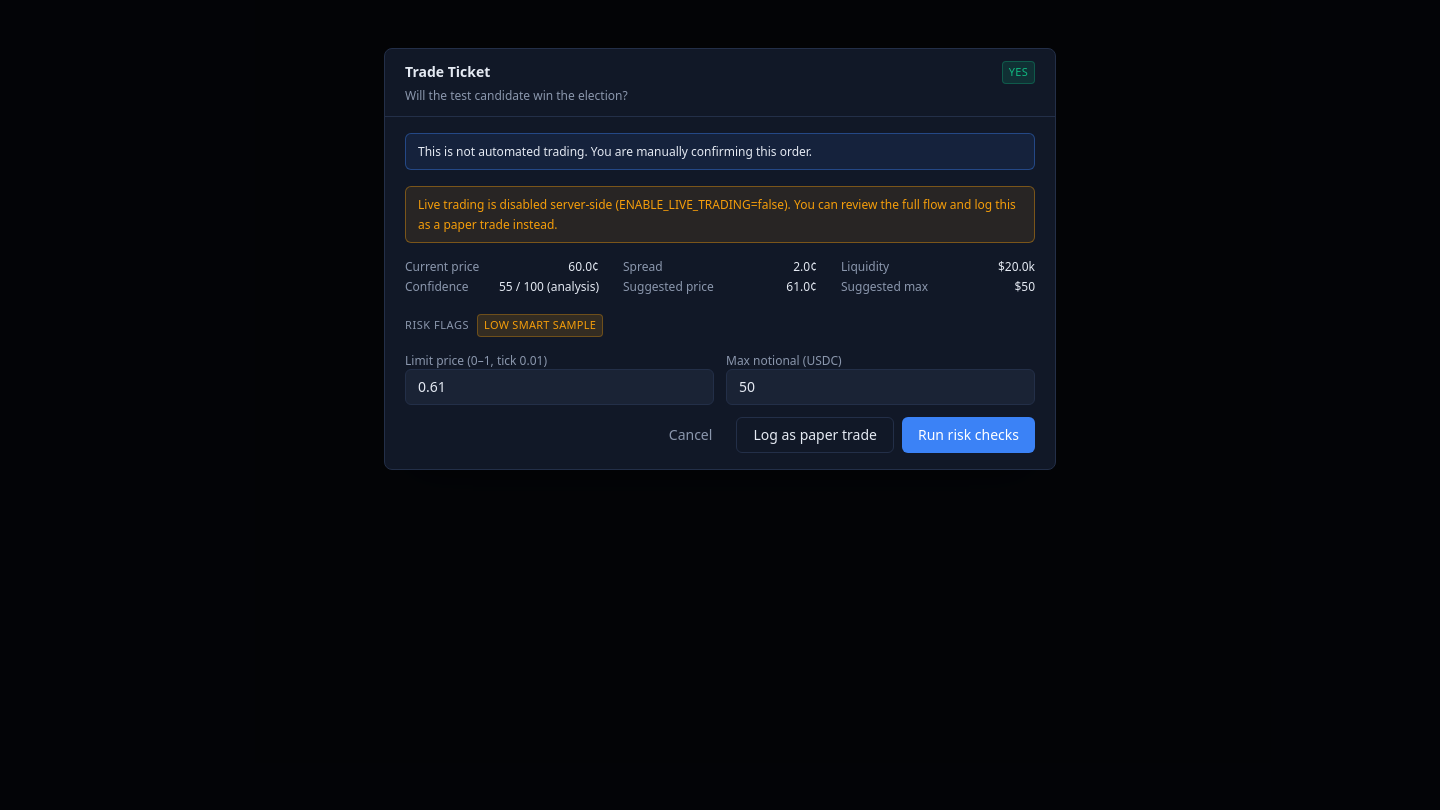
Test: TradeTicketModal › can log a paper trade regardless of live-trading state
Click the button "Log as paper trade" at (815, 434), box [736,416,894,452]
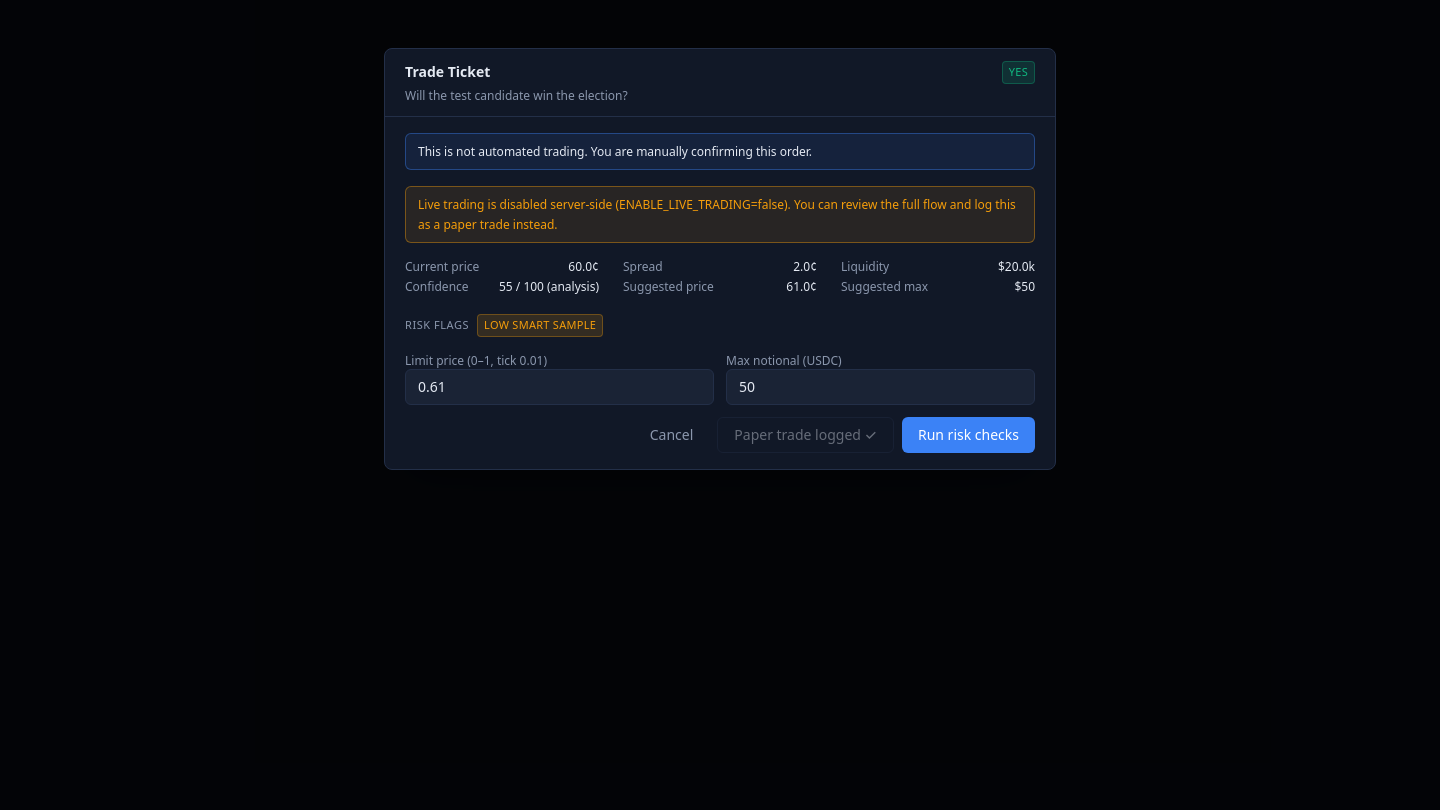
Result: the button "Paper trade logged ✓" is shown at [717,416,894,452]
